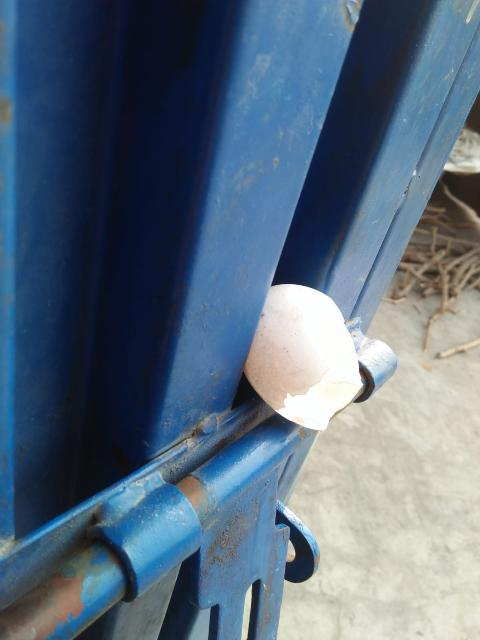Roto: (242, 282, 364, 432)
